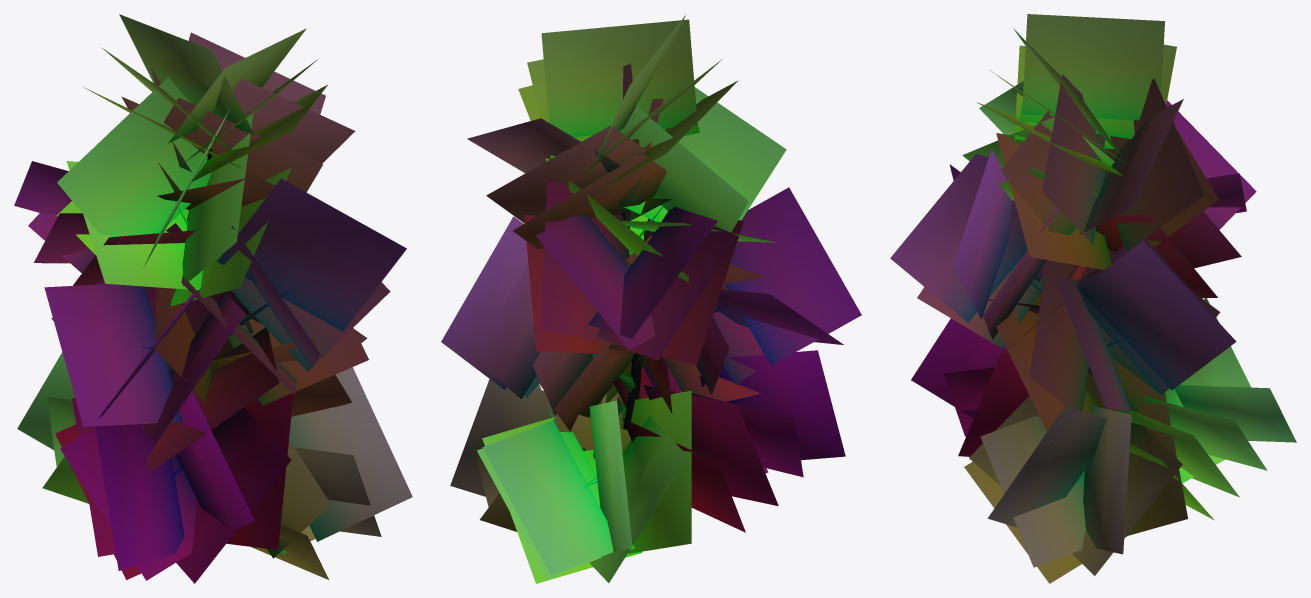
Rendered from URP_P15_Tree_3_LOD_1.fbx.
3 views of the same model, side by side, from view 1: azimuth 30°, elevation 25°; view 2: azimuth 150°, elevation 25°; view 3: azimuth 270°, elevation 25° (orthographic). The views are drawn at different scales.
Visible parts, largest first — view 1: Tree_3_LOD_1; view 2: Tree_3_LOD_1; view 3: Tree_3_LOD_1.
Boxes of the visible parts, x1,y1,x2,y2 form: Tree_3_LOD_1: (14, 14, 412, 583); Tree_3_LOD_1: (441, 15, 861, 583); Tree_3_LOD_1: (890, 14, 1296, 583).
Size of the model in its own units: 481 by 760 by 546.
